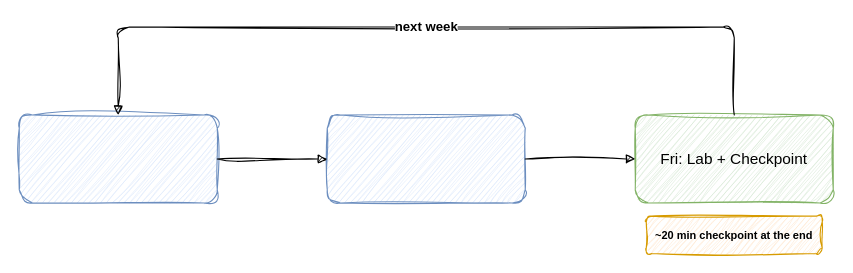
Image size: 853x273. Some labels were removed from this diagram. Here are the shapes that lost their labels. From the top down, the centre of each, then its label:
At pixel 117 158: "Mon: Lecture".
At pixel 425 158: "Wed: Lecture".
